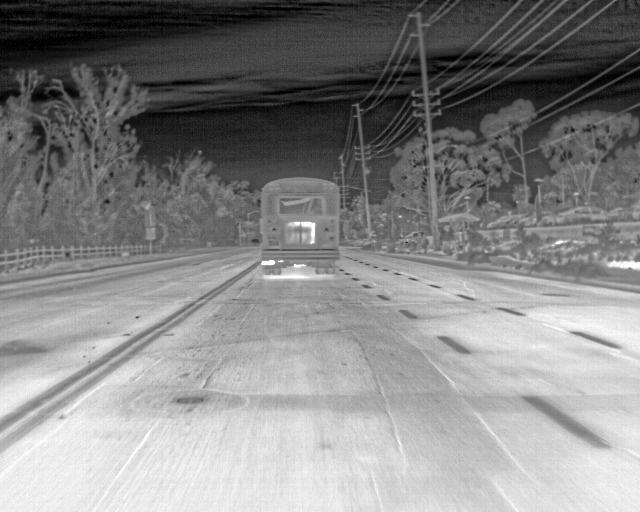car: (248, 236, 260, 247)
